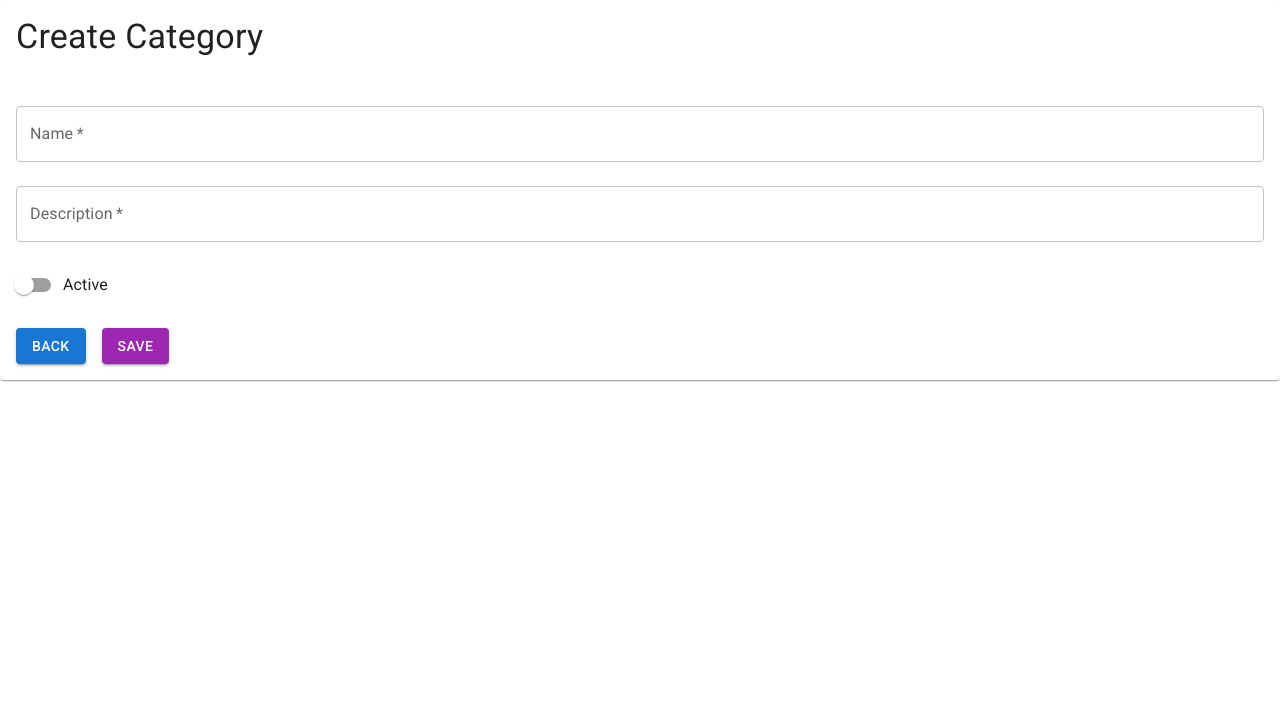
Test: CategoryCreate › should handle submit error
Type "test" into the field with test id "name".
click(640, 134); type("test")  # box [16,106,1264,162]
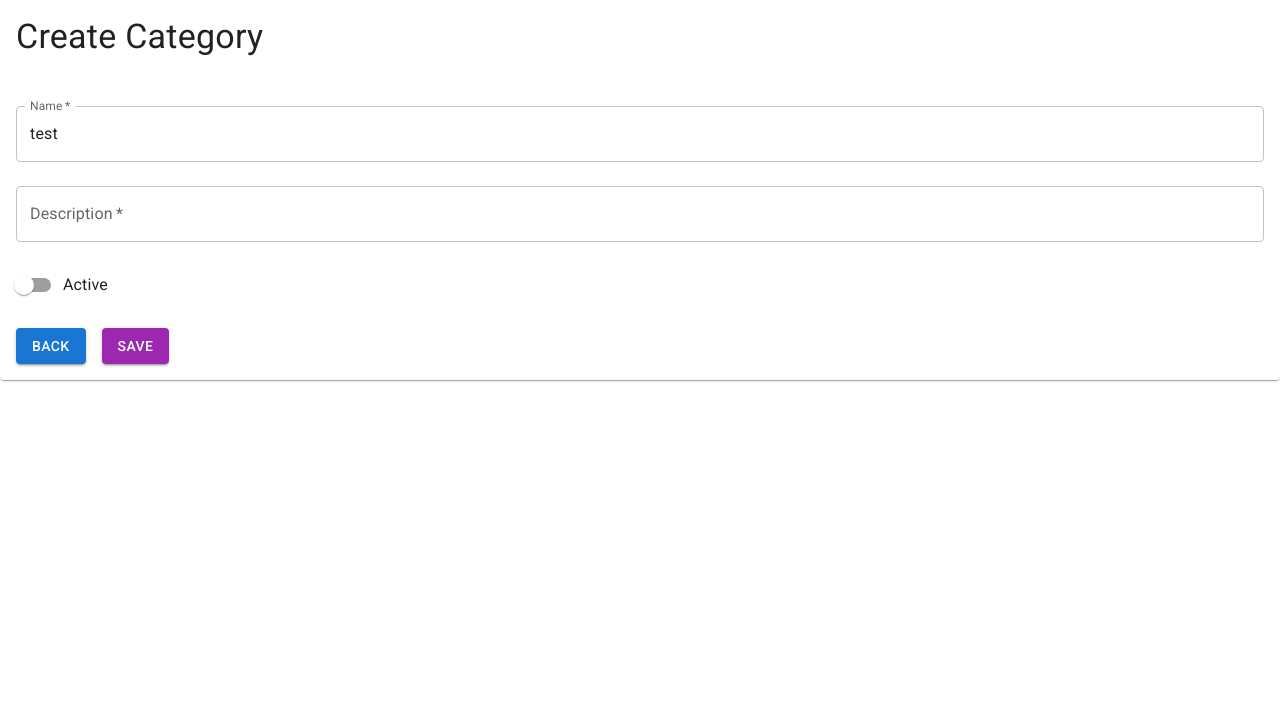
Type "test description" into the field with test id "description".
click(640, 214); type("test description")  # box [16,186,1264,242]
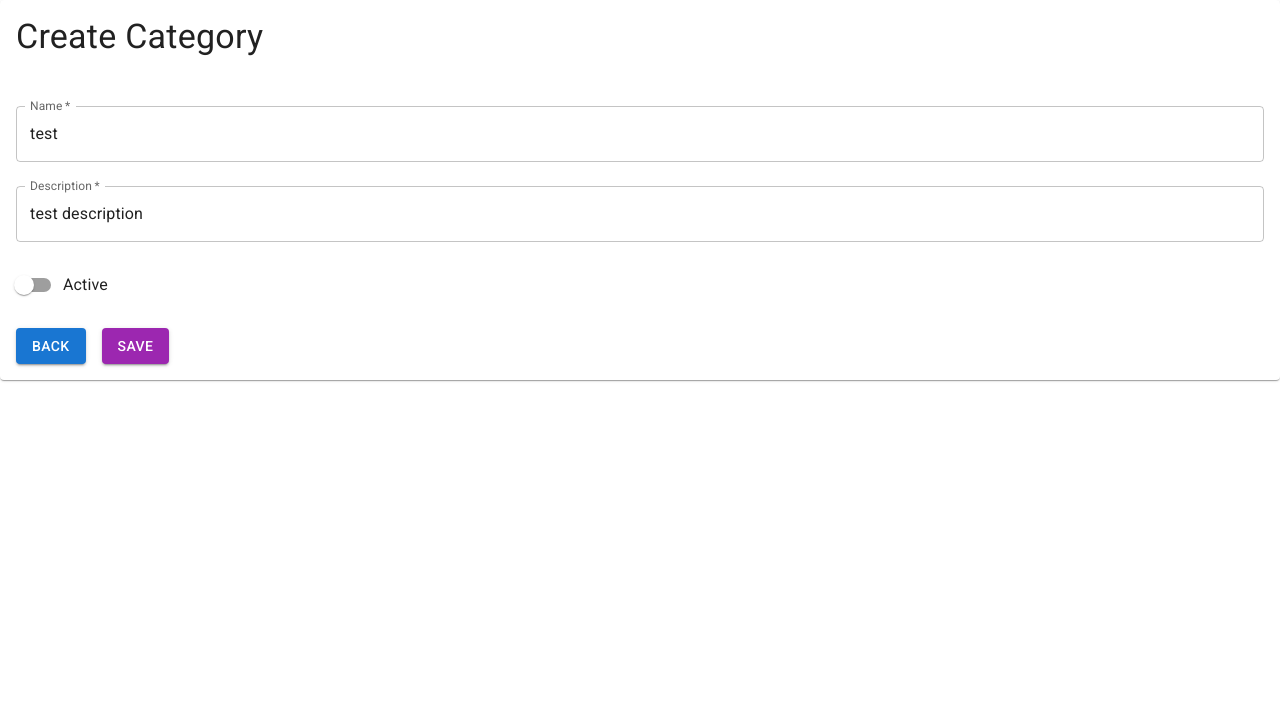
Click the element with test id "is_active".
click(24, 285)  # box [14,275,34,295]
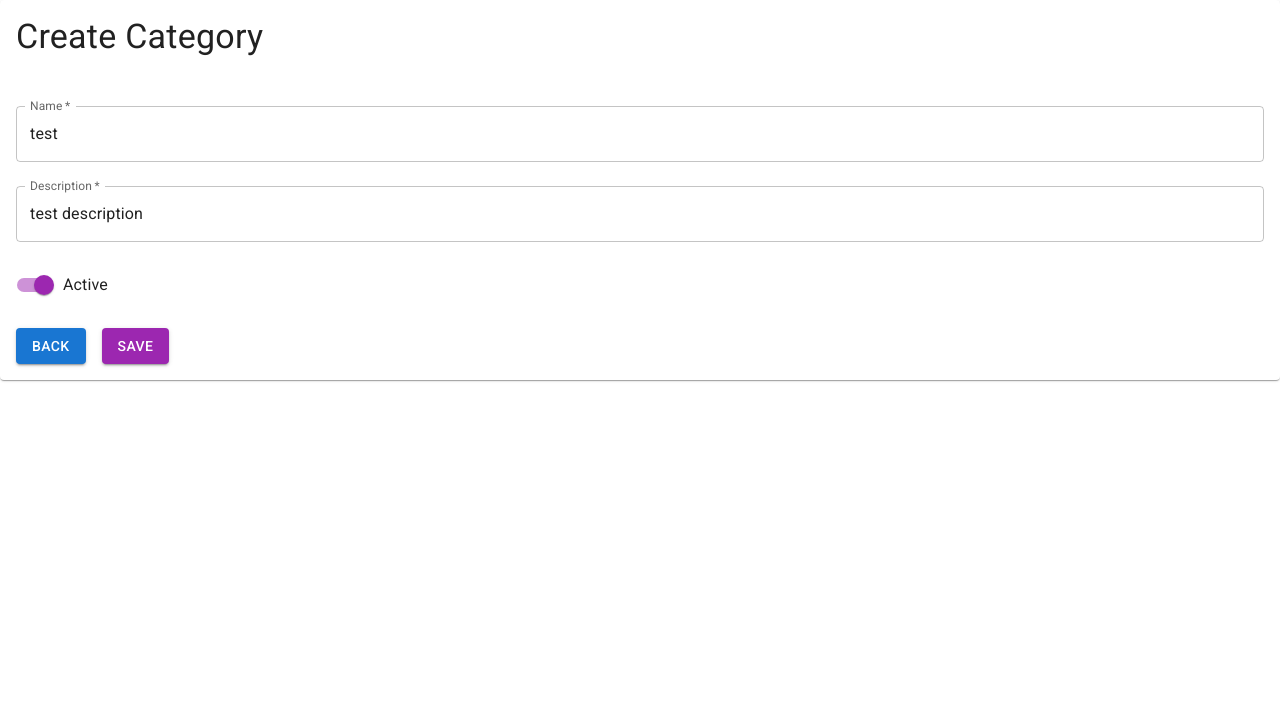
Click the button "Save".
click(136, 346)  # box [102,328,169,364]
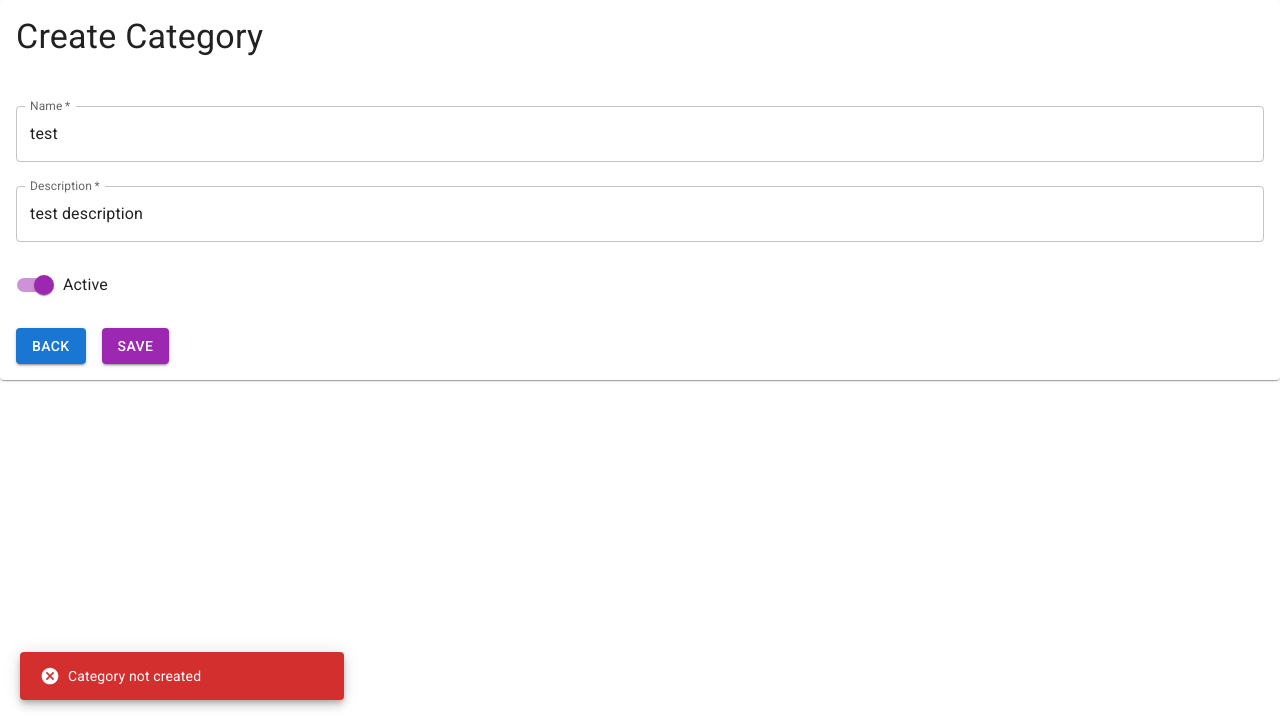
Expected: the text "Category not created" is shown, [40,666,201,686]
